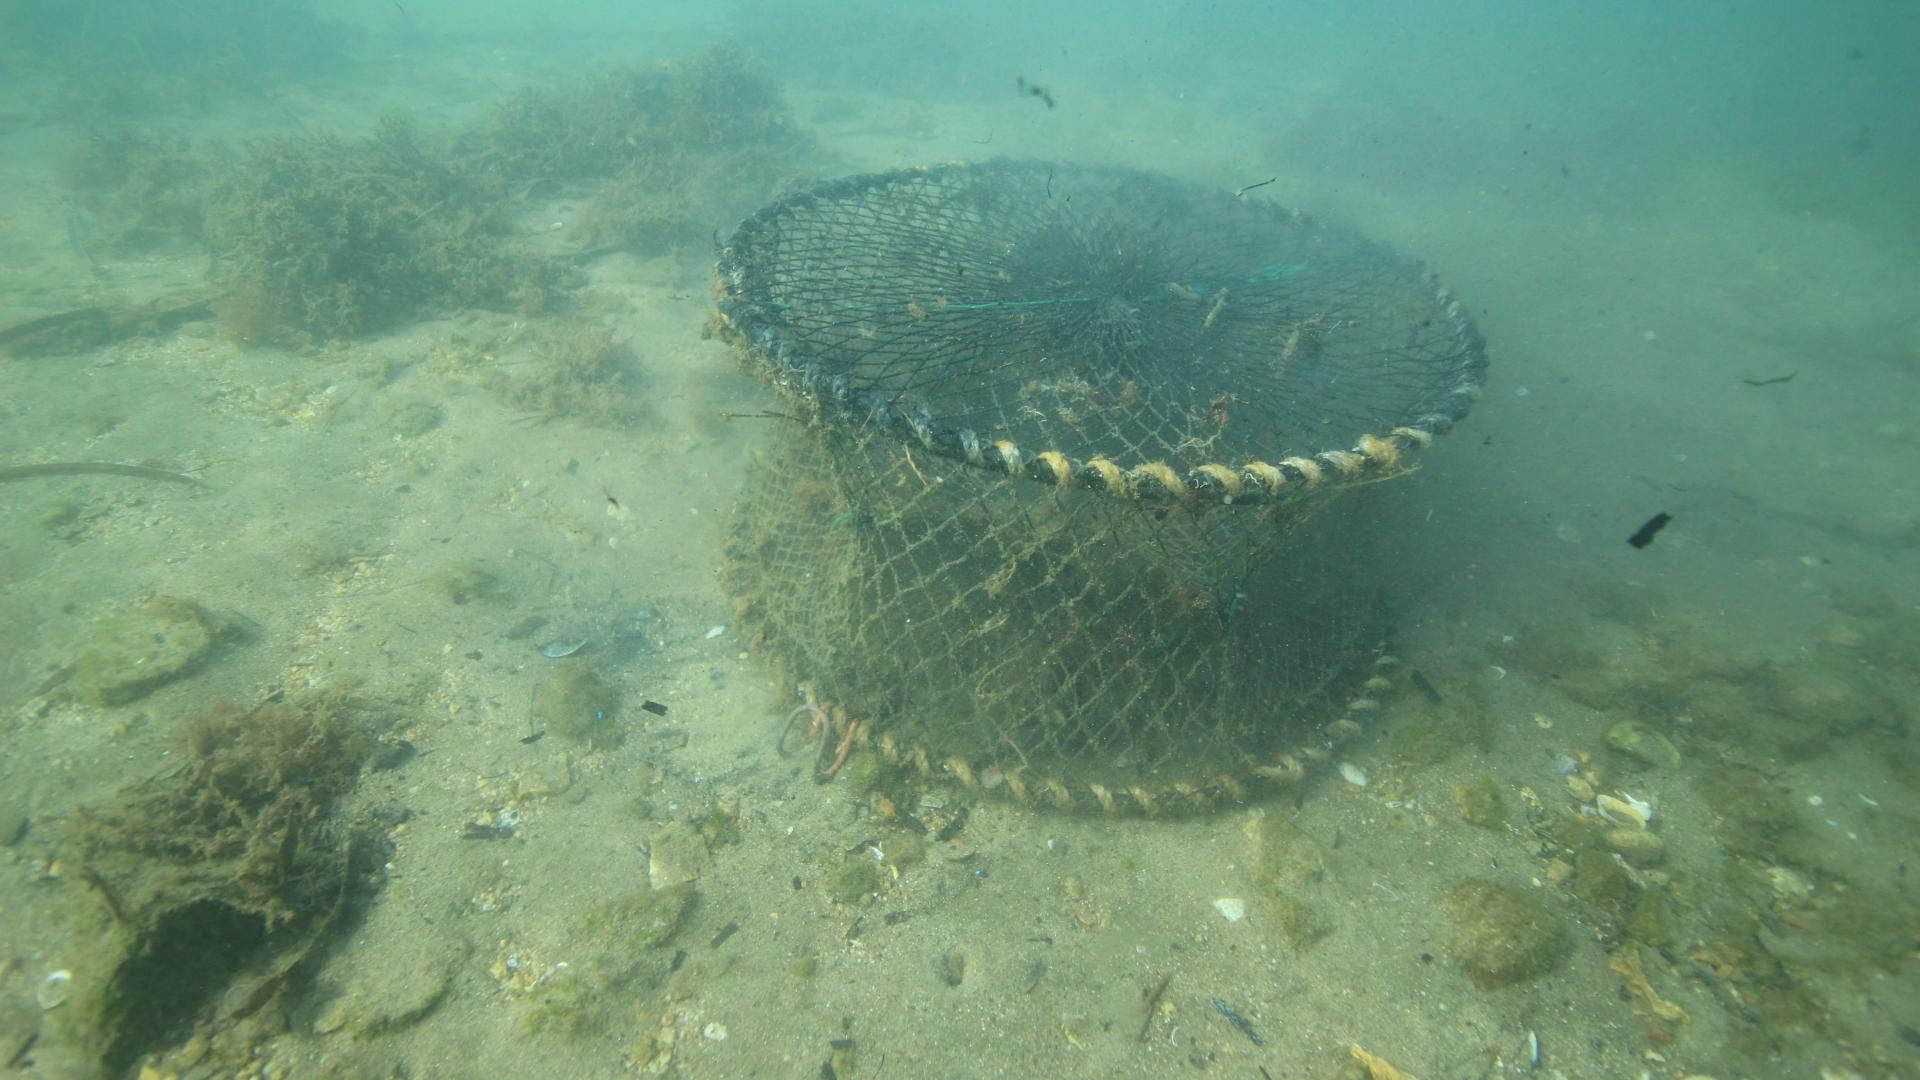circular fish trap: (713, 154, 1487, 818)
